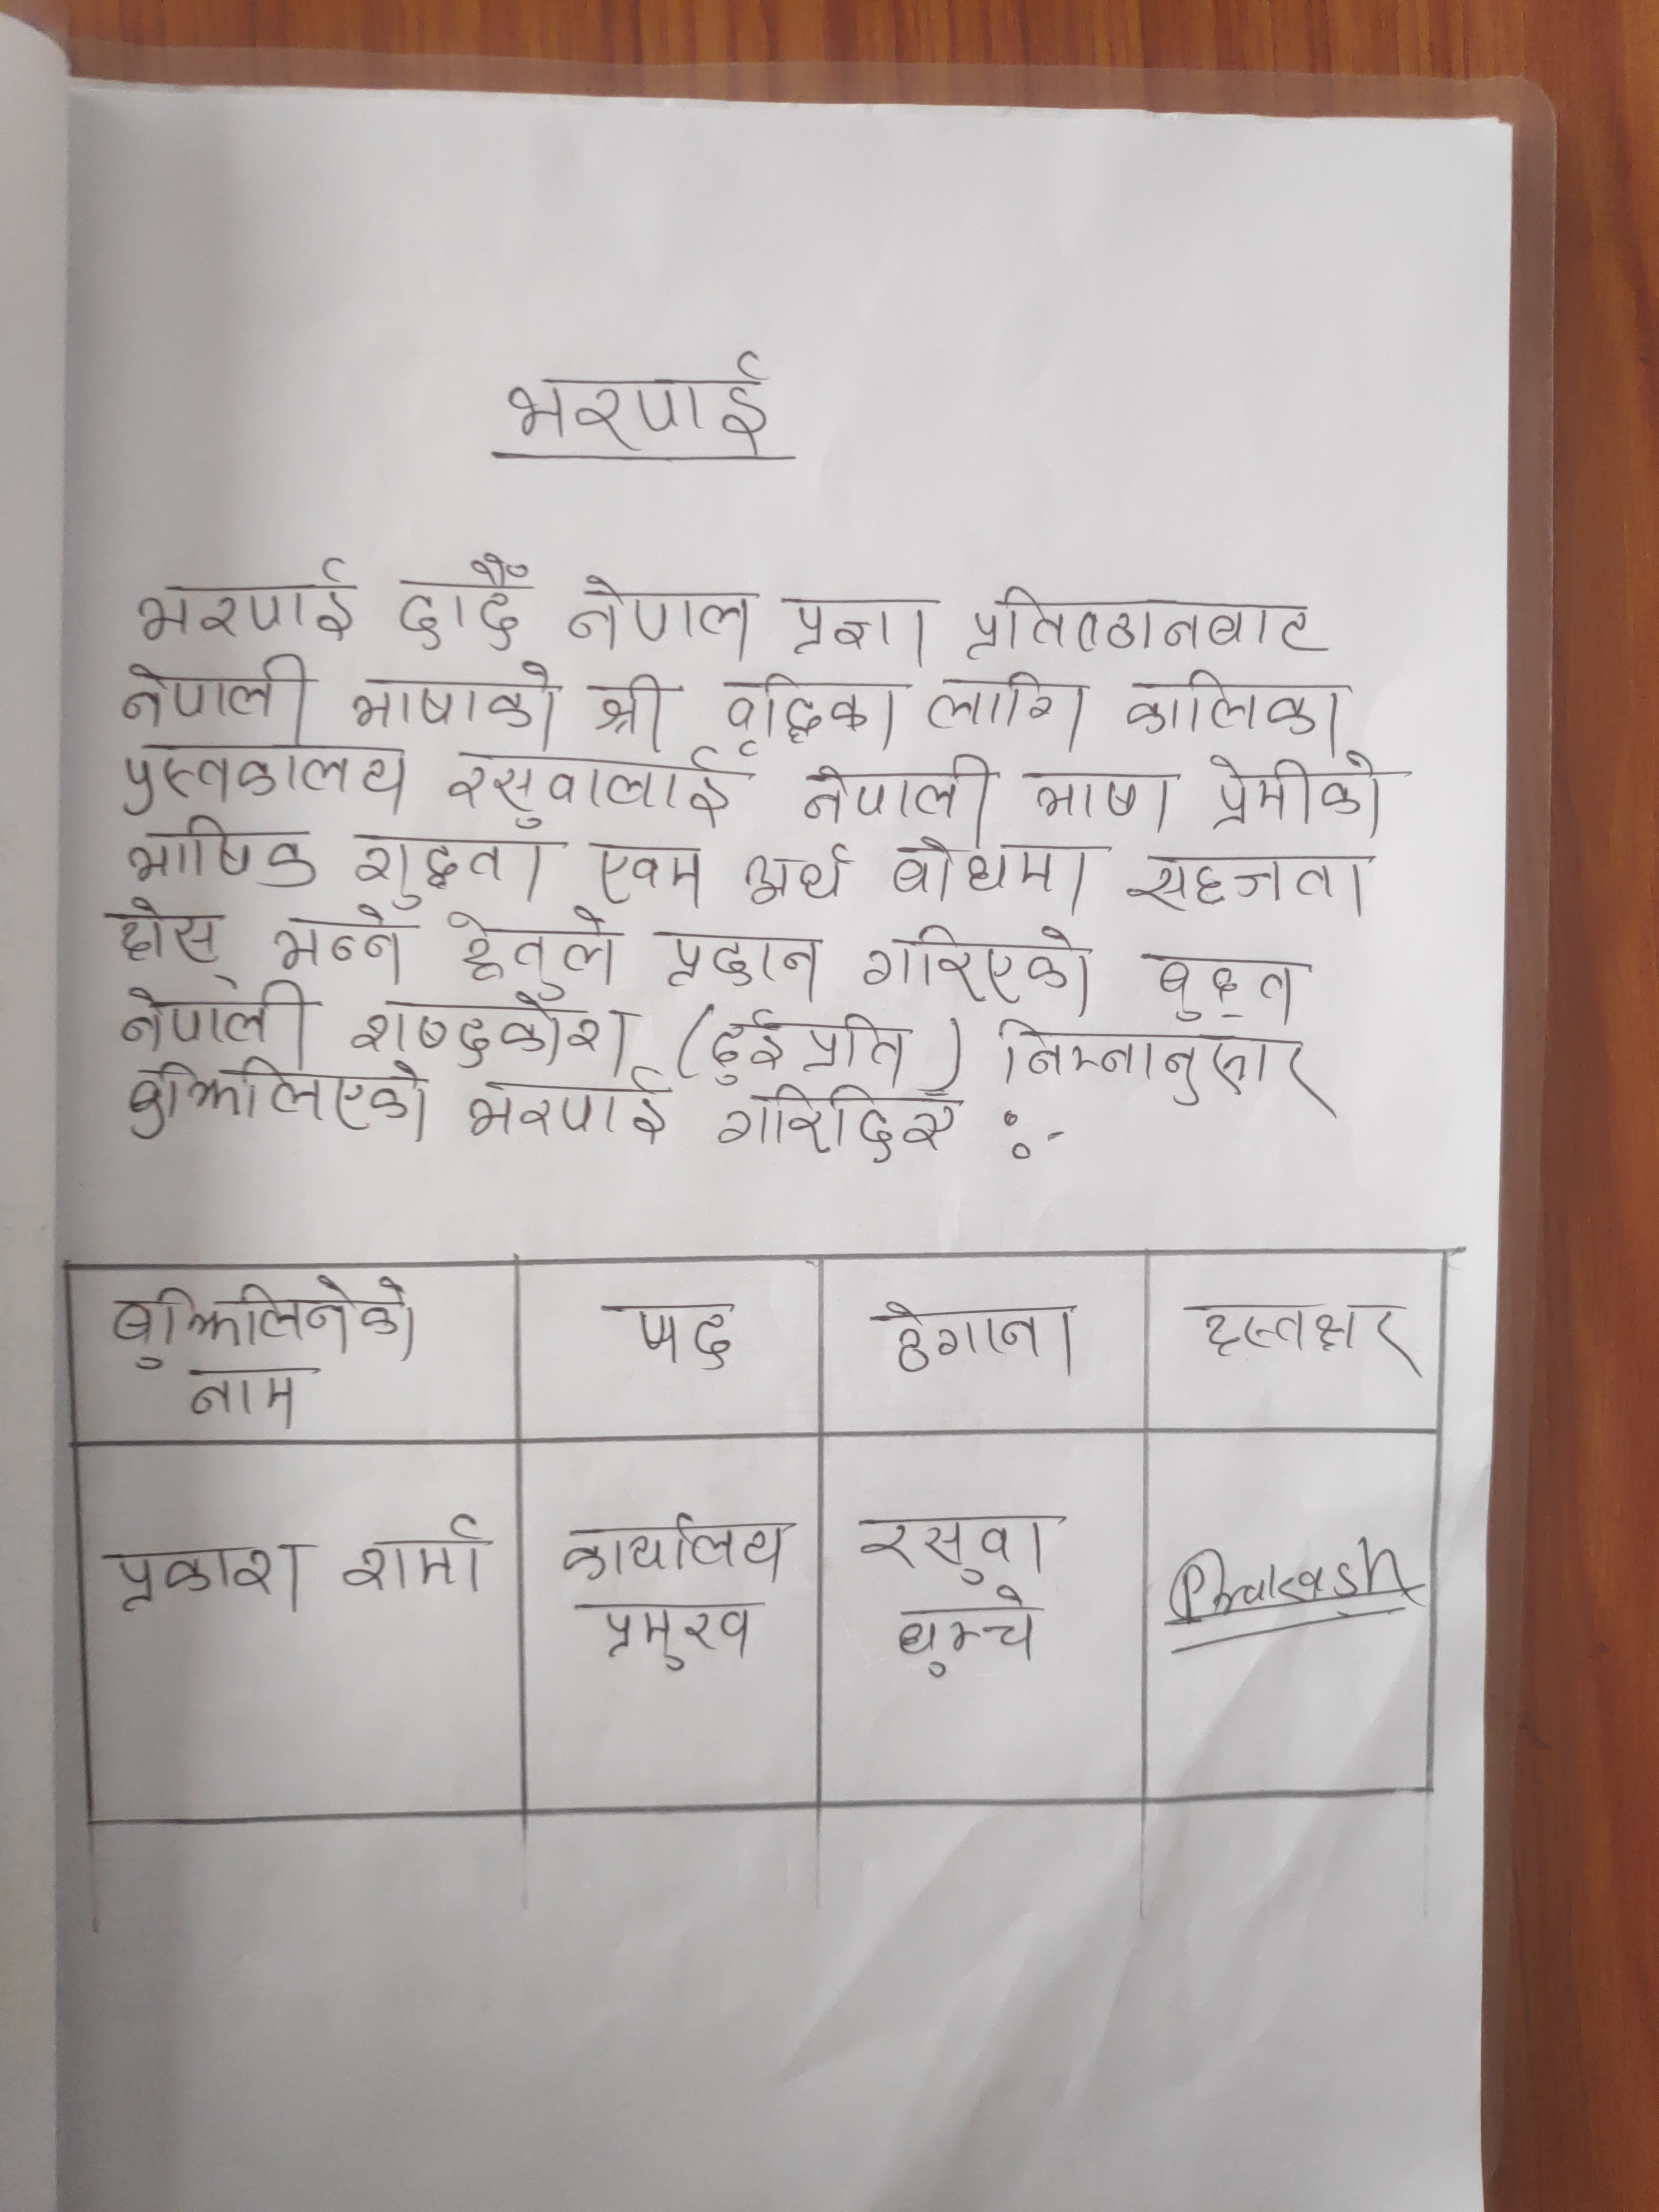text: (985, 1001, 1333, 1108), (99, 1275, 427, 1366), (967, 580, 1324, 660), (502, 348, 775, 453), (119, 1064, 443, 1146), (439, 744, 735, 826), (345, 988, 629, 1068), (113, 742, 408, 817), (859, 921, 1108, 1007), (134, 556, 356, 646), (1115, 843, 1382, 918), (716, 1082, 962, 1162), (89, 1533, 312, 1616), (793, 742, 1011, 826), (112, 646, 317, 732), (709, 1005, 917, 1087), (554, 1510, 791, 1581), (885, 831, 1100, 909), (345, 660, 563, 737), (875, 1296, 1079, 1378), (343, 820, 542, 904), (119, 970, 312, 1055), (1121, 665, 1345, 738), (441, 907, 622, 998), (1201, 745, 1387, 833), (857, 1505, 1053, 1587), (566, 575, 760, 655), (713, 674, 904, 752), (124, 819, 319, 895), (387, 550, 530, 651), (587, 1594, 760, 1677), (460, 1075, 666, 1143), (889, 1588, 1042, 1677), (924, 664, 1089, 745), (342, 1512, 497, 1597), (1187, 1299, 1403, 1360), (1140, 946, 1300, 1024), (775, 590, 945, 660), (648, 932, 826, 998), (261, 906, 410, 975), (96, 894, 230, 967), (580, 834, 708, 909), (1028, 768, 1178, 829), (613, 1298, 739, 1367), (739, 843, 859, 914), (183, 1367, 315, 1430), (596, 672, 674, 749)
